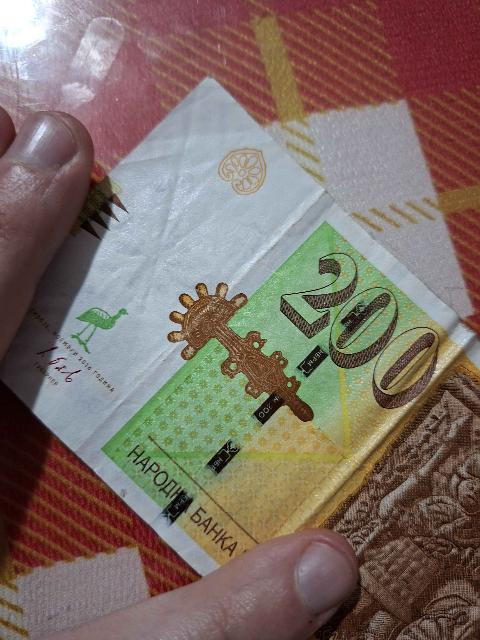200_note: (9, 80, 479, 639)
